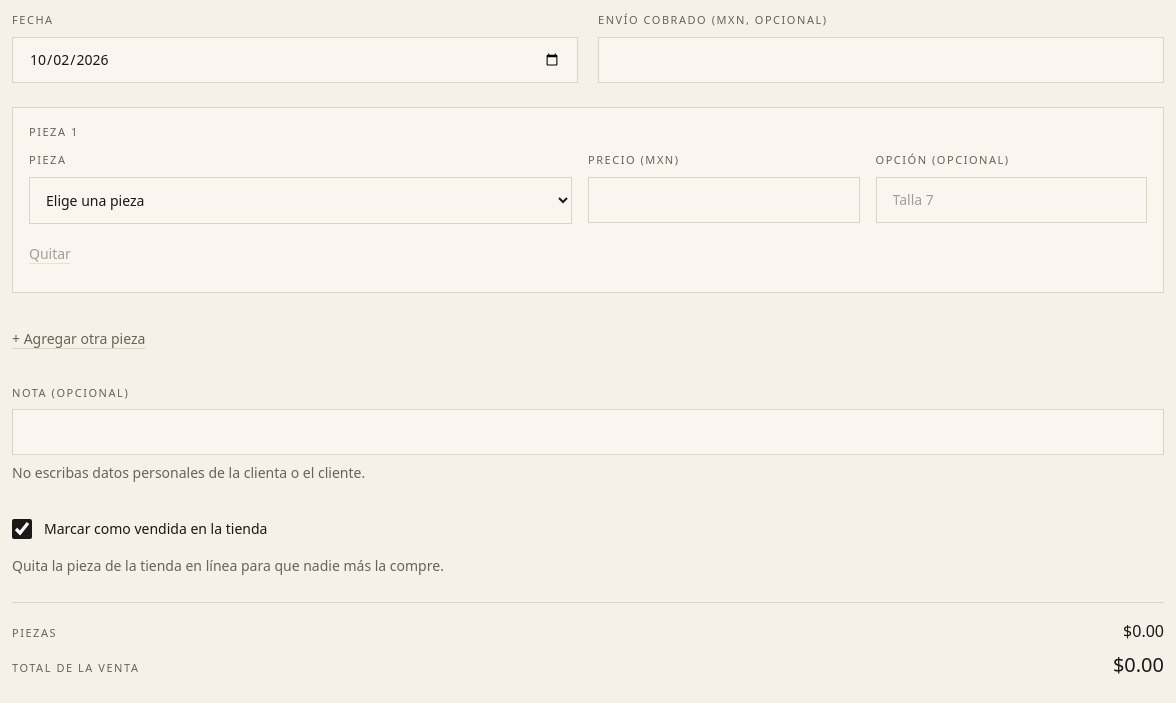
Test: ManualSaleForm: the piece rows › starts the price at the catalog's, in pesos, when a piece is chosen
Select "Anillo Luna" in the dropdown labelled "Pieza" at [300, 200], box [29, 176, 572, 224]
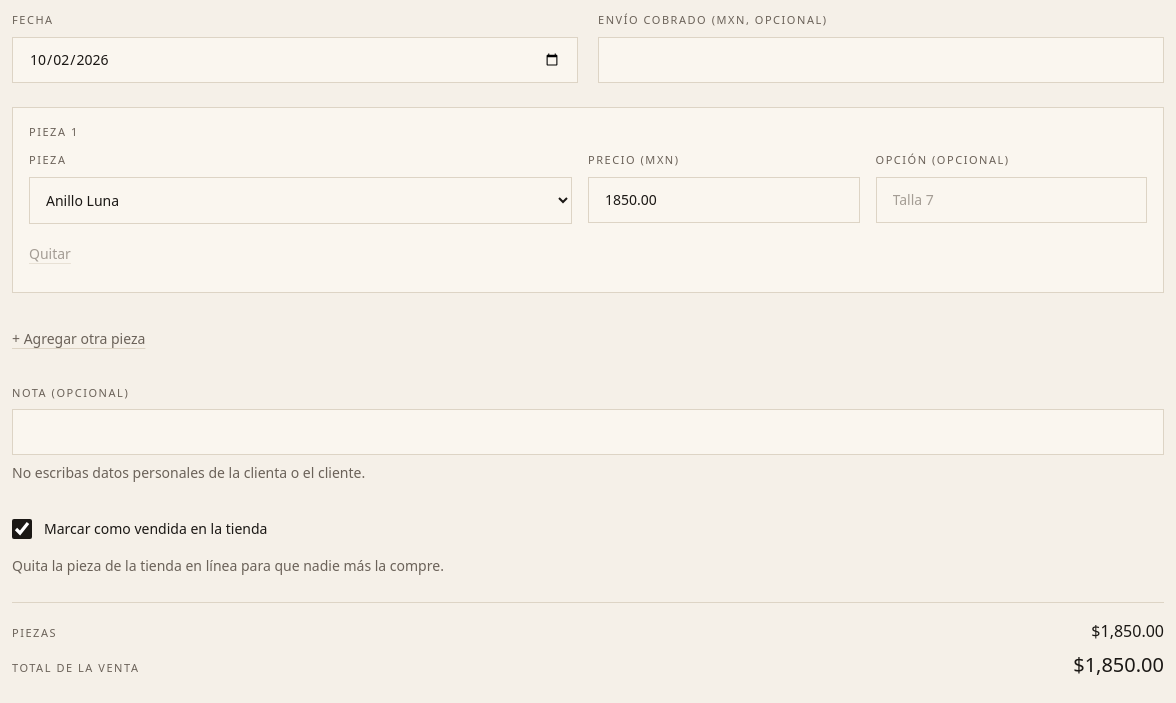
Expected: the number field labelled "Precio (MXN)" holds "1850", [588, 176, 860, 222]
Select "Dije Mar" in the dropdown labelled "Pieza" at [300, 200], box [29, 176, 572, 224]
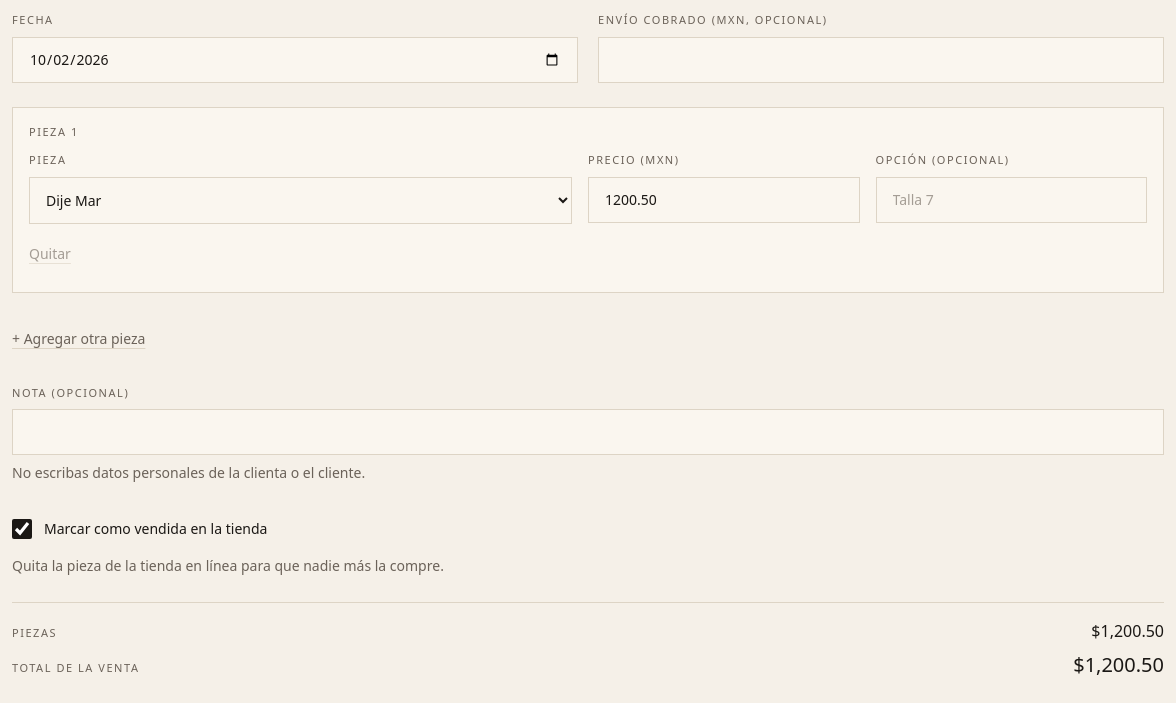
Expected: the number field labelled "Precio (MXN)" holds "1200.5", [588, 176, 860, 222]
